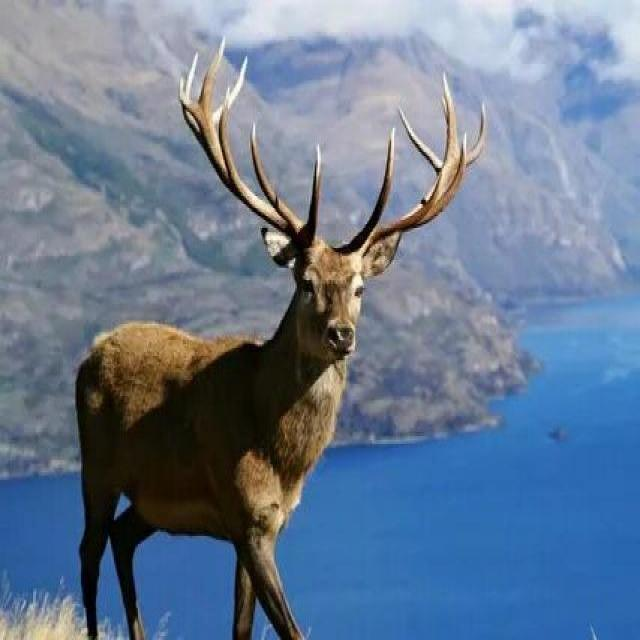deer: (68, 101, 538, 640)
